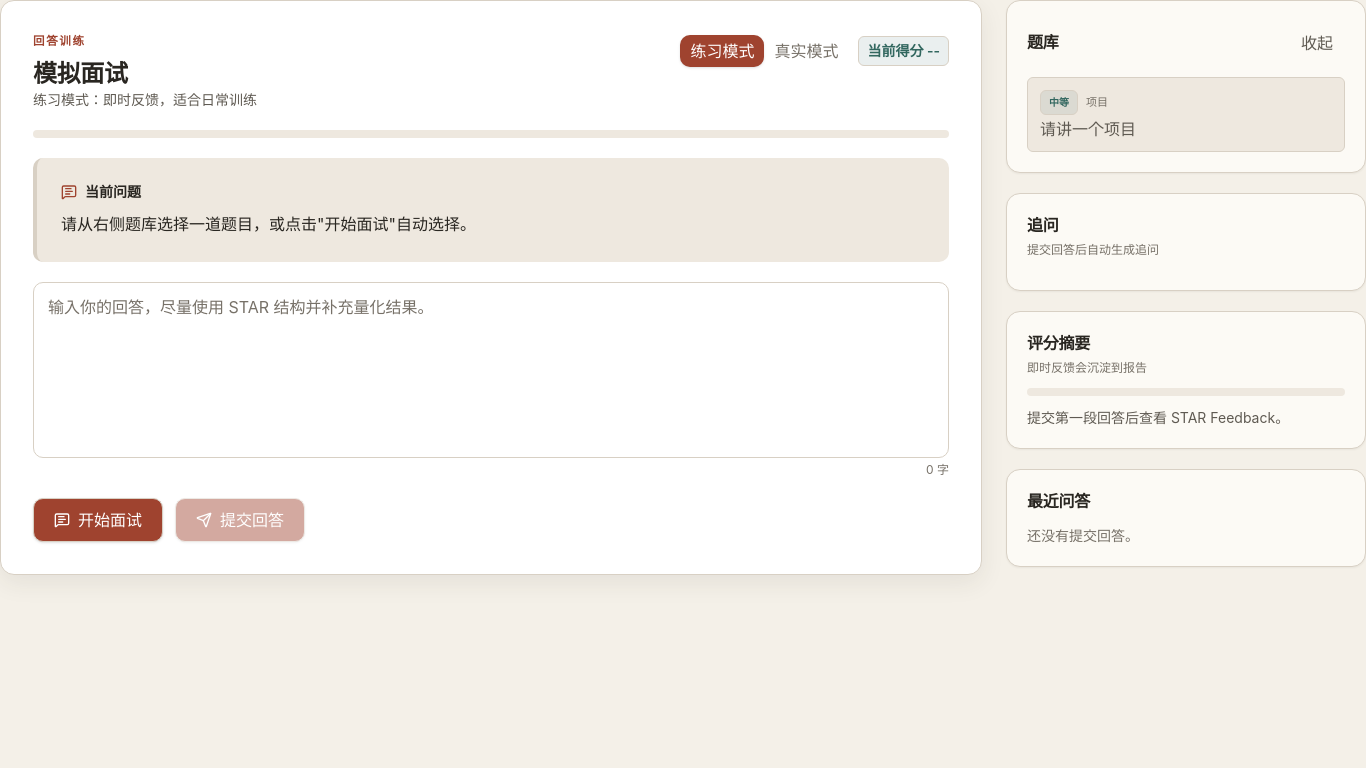
Test: InterviewPage AI feedback › shows a useful error when answer scoring fails
Click the button "开始面试". click: point(98, 520)
box: [33,498,163,542]
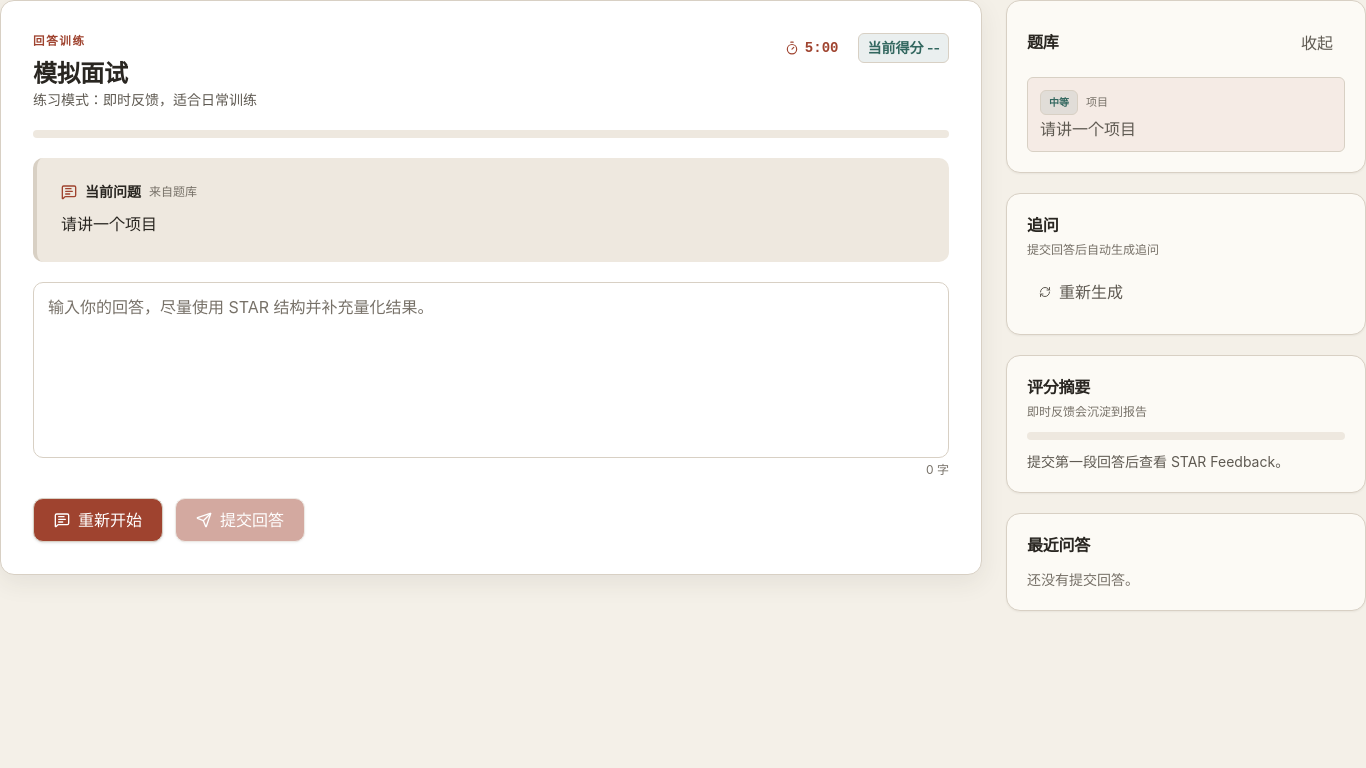
Type "这是我的回答" into the text box with placeholder "输入你的回答，尽量使用 STAR 结构并补充量化结果。". click: point(491, 370)
box: [33,282,949,458]
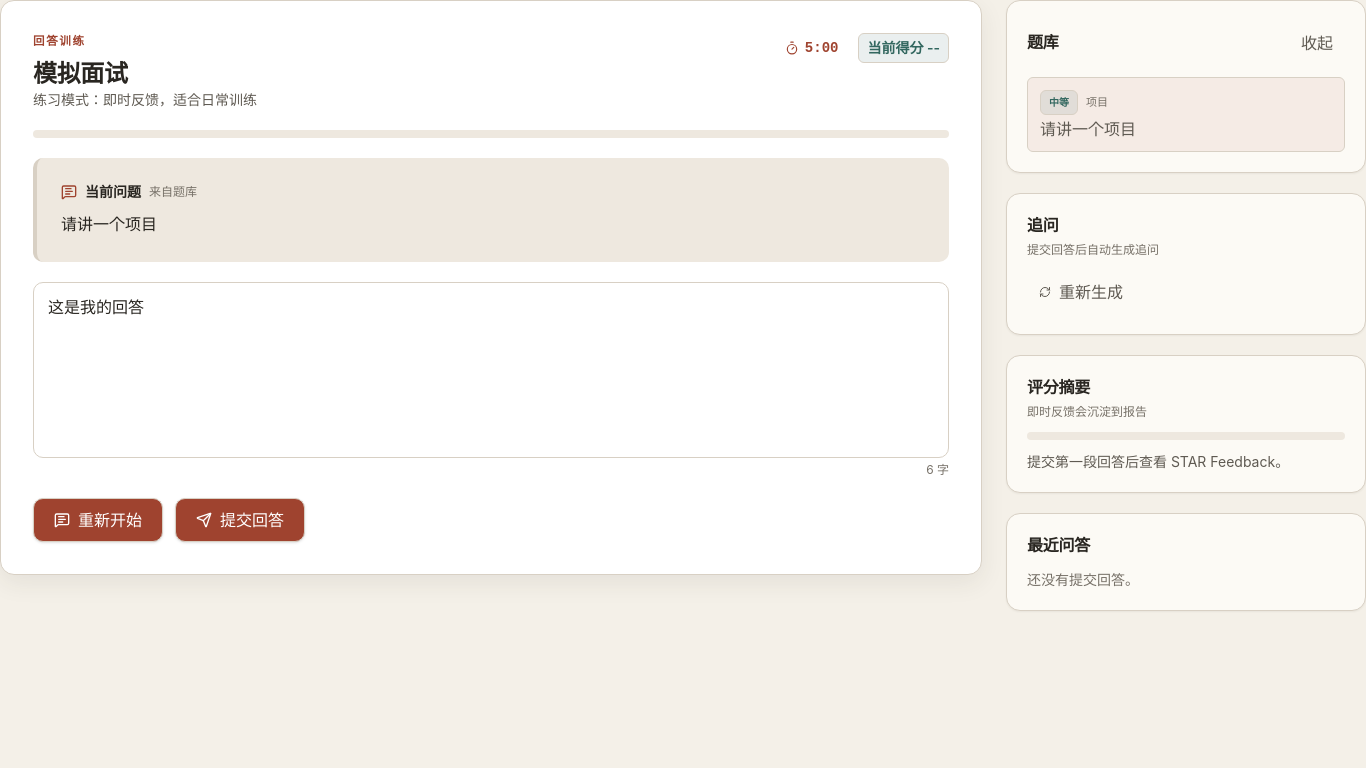
Click the button "提交回答". click: point(240, 520)
box: [175,498,305,542]
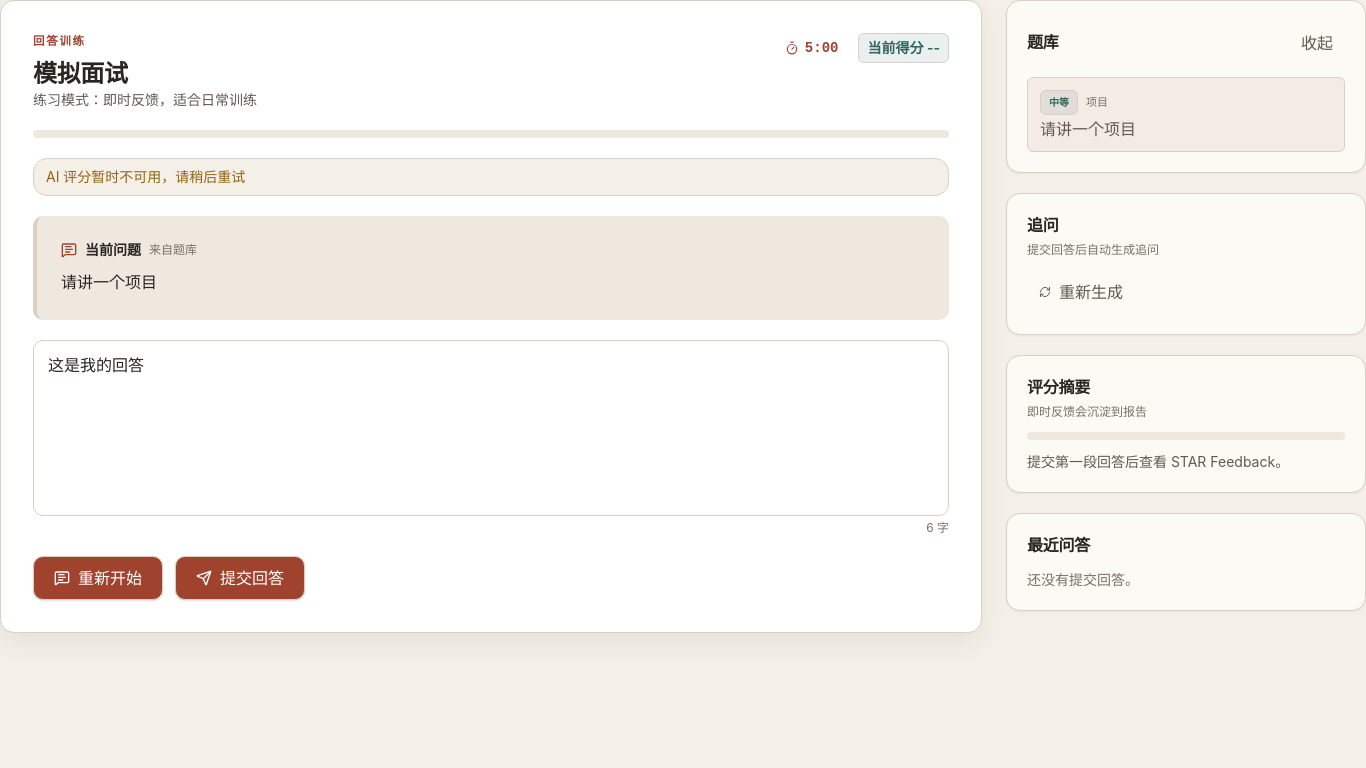
Now the text "AI 评分暂时不可用，请稍后重试" is shown, box [33,158,949,196]
